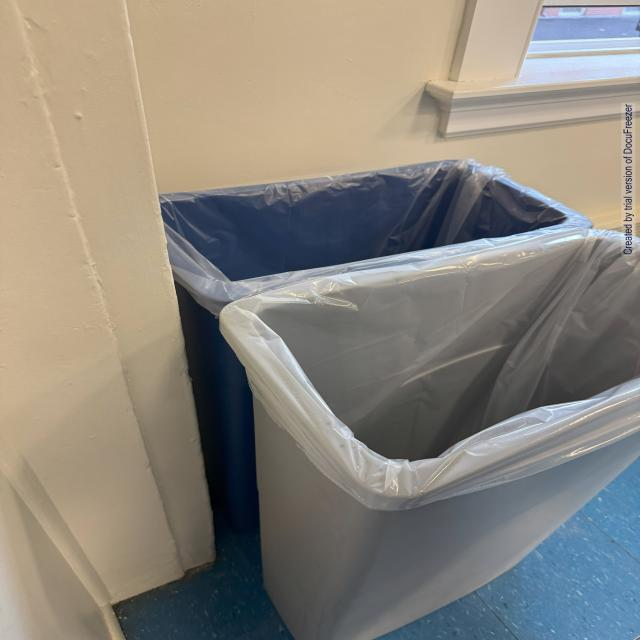Trash bin: (224, 240, 640, 640)
